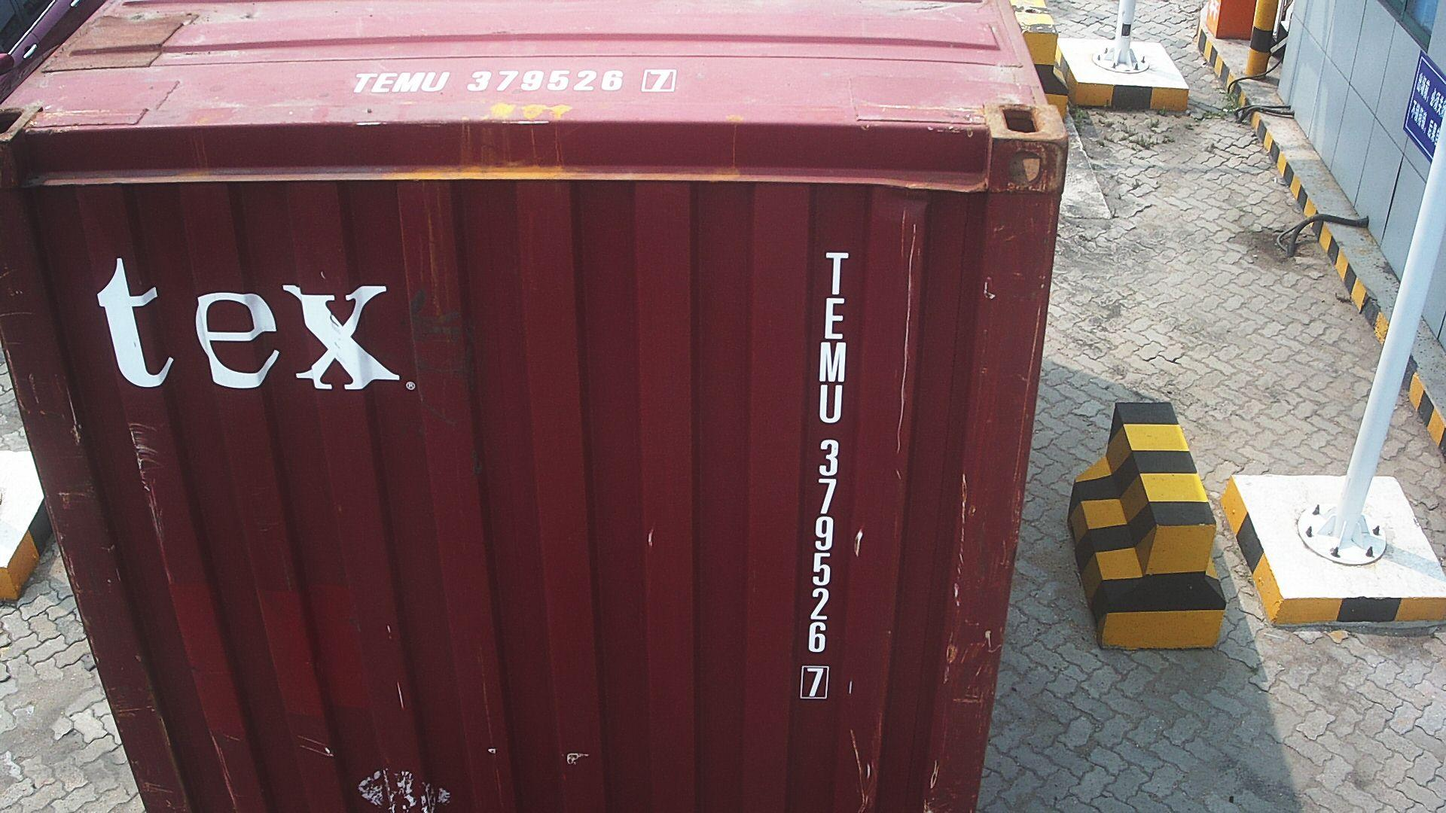container-numbers: (795, 248, 853, 703), (343, 66, 683, 98)
